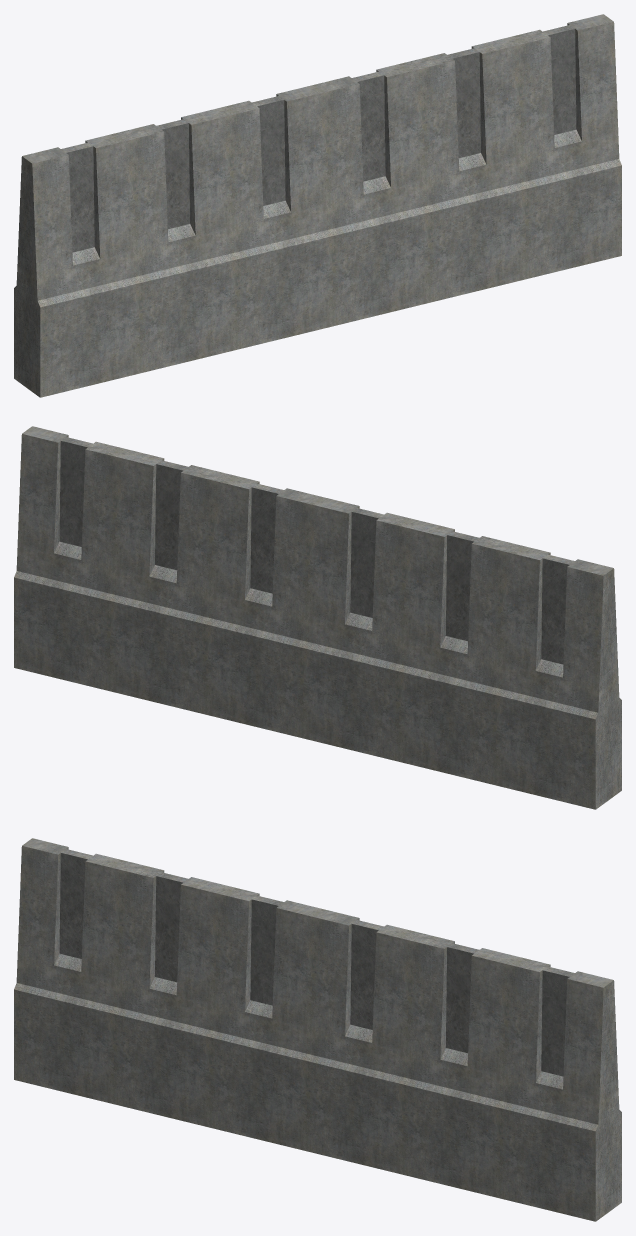
Rendered from mun_all_military_wall_weak_impl_16_s01_l0.fbx.
The picture shows the model from 3 angles, top to bottom: view 1: azimuth 30°, elevation 25°; view 2: azimuth 150°, elevation 25°; view 3: azimuth 330°, elevation 25°; orthographic projection.
Parts seen in each view (by area): view 1: mesh_node; view 2: mesh_node; view 3: mesh_node.
Boxes of the visible parts, x1,y1,x2,y2 form: mesh_node: (14, 14, 621, 397); mesh_node: (14, 426, 621, 809); mesh_node: (14, 838, 621, 1221).
Bounding box in the file's own units: 16 × 6 × 1.25.
